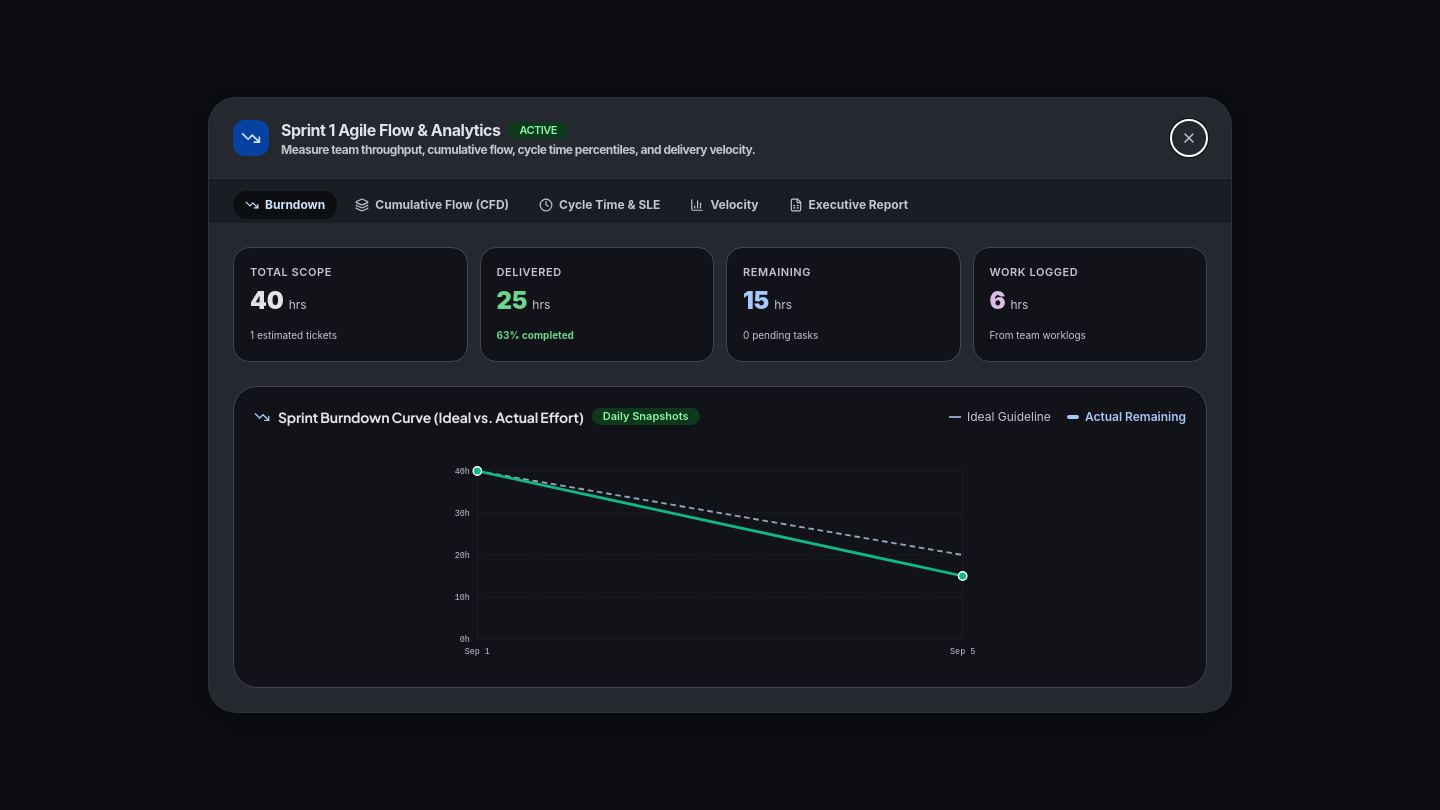
Test case: SprintAnalyticsModal › switches to Velocity tab and displays backend average velocity
Press the mouse on the tab "Velocity": (724, 205) [678,191,771,219]
Press Enter in the tab "Velocity", box [678,191,771,219]
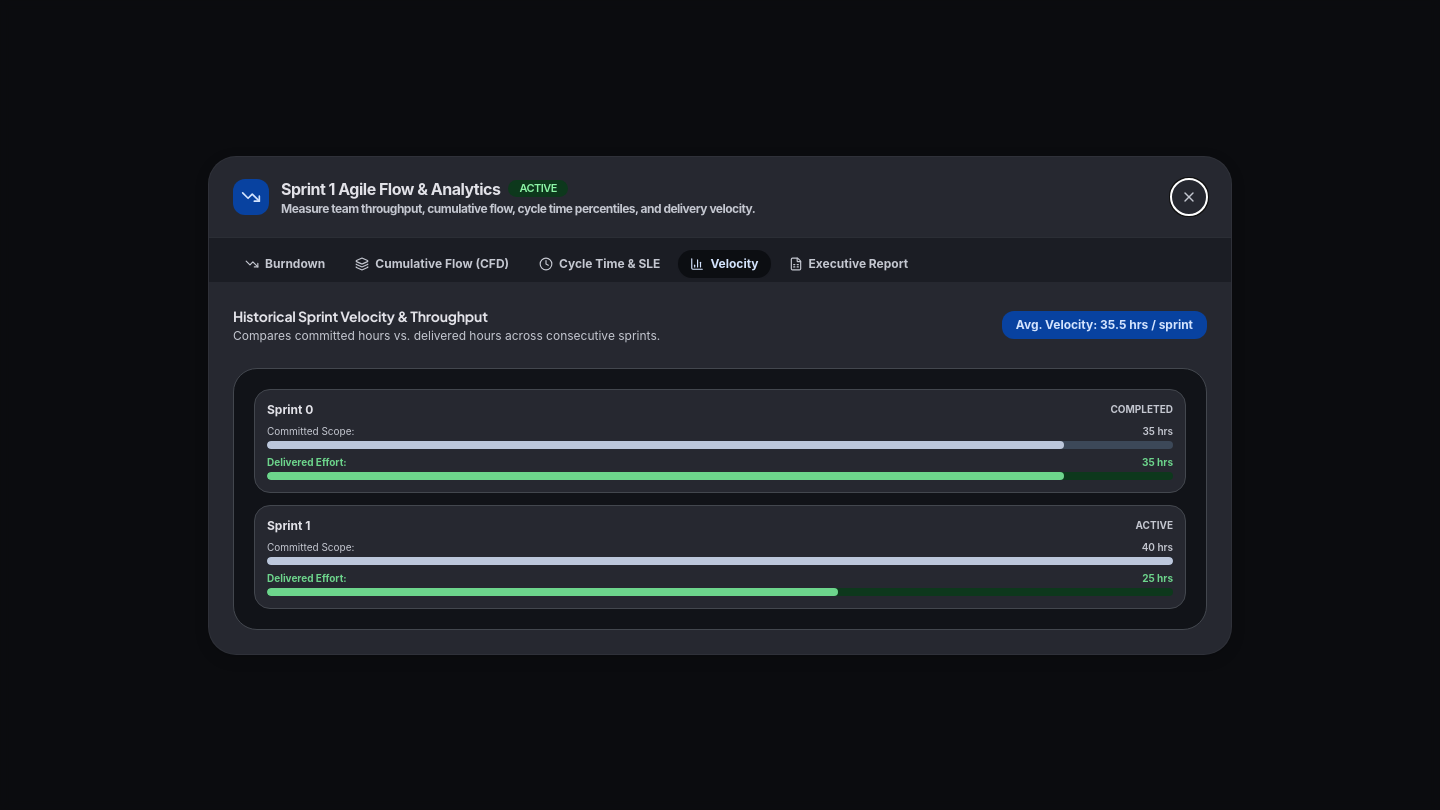
Expected: the text "Avg. Velocity: 35.5 hrs / sprint" is shown, [1002,310,1207,338]
Expected: the text "Sprint 0" is shown, [267,402,313,418]
